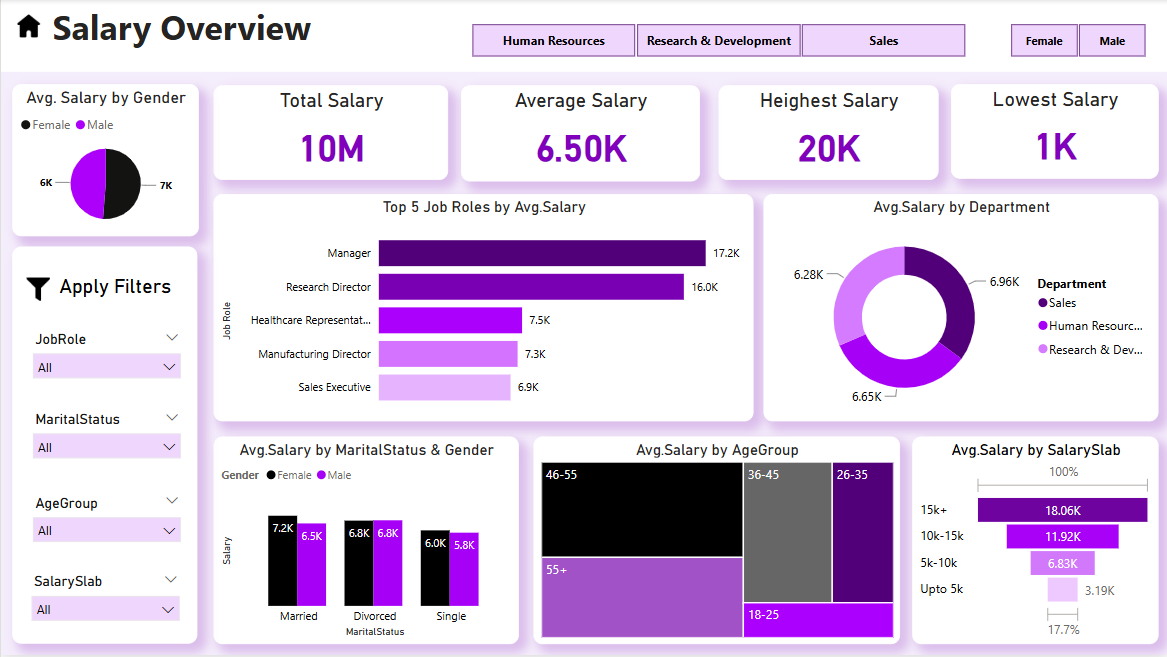

What the dashboard file says about the page in this screenshot:
{"tool":"powerbi","page":{"name":"Salary Overview","canvas":[1280,720],"ordinal":3},"visuals":[{"type":"card","title":"Total Salary","fields":{"Values":["HR_Analytics$.Total_Salary"]},"box":[233.3,94.7,258,104.3],"z":0},{"type":"card","title":"Heighest Salary","fields":{"Values":["Max(HR_Analytics$.MonthlyIncome)"]},"box":[787.7,94.7,241.5,104.3],"z":1000},{"type":"card","title":"Lowest Salary","fields":{"Values":["Min(HR_Analytics$.MonthlyIncome)"]},"box":[1042.9,93.3,227.8,104.3],"z":2000},{"type":"card","title":"Average Salary","fields":{"Values":["HR_Analytics$.Average_salary"]},"box":[505,94.7,262.1,105.7],"z":3000},{"type":"pieChart","title":"Avg. Salary by Gender","fields":{"Category":["HR_Analytics$.Gender"],"Y":["HR_Analytics$.Average_salary"]},"box":[12.3,93.3,204.5,167.4],"z":4000},{"type":"textbox","box":[0,0,1280,80],"z":5000},{"type":"slicer","fields":{"Values":["HR_Analytics$.Gender"]},"box":[1082.7,20.6,197.6,49.4],"z":6000},{"type":"slicer","fields":{"Values":["HR_Analytics$.Department"]},"box":[491.3,20.6,591.4,49.4],"z":7000},{"type":"barChart","title":"Top 5 Job Roles by Avg.Salary","fields":{"Category":["HR_Analytics$.JobRole"],"Y":["HR_Analytics$.Average_salary"]},"box":[233.3,214.1,592.8,249.7],"z":8000},{"type":"donutChart","title":"Avg.Salary by Department","fields":{"Y":["HR_Analytics$.Average_salary"],"Category":["HR_Analytics$.Department"]},"box":[837.1,214.1,433.6,249.7],"z":9000},{"type":"clusteredColumnChart","title":"Avg.Salary by MaritalStatus & Gender","fields":{"Category":["HR_Analytics$.MaritalStatus"],"Y":["HR_Analytics$.Average_salary"],"Series":["HR_Analytics$.Gender"]},"box":[233.3,480.3,334.8,227.8],"z":10000},{"type":"treemap","title":"Avg.Salary by AgeGroup","fields":{"Group":["HR_Analytics$.AgeGroup"],"Values":["HR_Analytics$.Average_salary"]},"box":[584.6,480.3,402.1,227.8],"z":11000},{"type":"funnel","title":"Avg.Salary by SalarySlab","fields":{"Category":["HR_Analytics$.SalarySlab"],"Y":["HR_Analytics$.Average_salary"]},"box":[1000.3,480.3,270.3,227.8],"z":12000},{"type":"textbox","box":[12.3,271.7,203.1,436.4],"z":13000},{"type":"slicer","fields":{"Values":["HR_Analytics$.JobRole"]},"box":[24.7,359.5,182.5,65.9],"z":14000},{"type":"slicer","fields":{"Values":["HR_Analytics$.MaritalStatus"]},"box":[24.7,447.3,182.5,65.9],"z":15000},{"type":"slicer","fields":{"Values":["HR_Analytics$.AgeGroup"]},"box":[24.7,539.3,182.5,65.9],"z":16000},{"type":"slicer","fields":{"Values":["HR_Analytics$.SalarySlab"]},"box":[23.3,625.7,182.5,65.9],"z":17000},{"type":"image","box":[23.3,297.8,35.7,41.2],"z":18000},{"type":"textbox","box":[59,297.8,146.8,48],"z":19000},{"type":"image","box":[0,0,60.4,59],"z":20000}]}

Visuals, with their boxes in screenshot pixels (x1, y1, x2, y2), scaled from the page's 1280x720 canvas onto the 1167x657 screenshot:
"Total Salary" card: BBox(213, 86, 448, 182)
"Heighest Salary" card: BBox(718, 86, 938, 182)
"Lowest Salary" card: BBox(951, 85, 1159, 180)
"Average Salary" card: BBox(460, 86, 699, 183)
"Avg. Salary by Gender" pieChart: BBox(11, 85, 198, 238)
textbox: BBox(0, 0, 1166, 73)
slicer - HR_Analytics$.Gender: BBox(987, 19, 1166, 64)
slicer - HR_Analytics$.Department: BBox(448, 19, 987, 64)
"Top 5 Job Roles by Avg.Salary" barChart: BBox(213, 195, 753, 423)
"Avg.Salary by Department" donutChart: BBox(763, 195, 1159, 423)
"Avg.Salary by MaritalStatus & Gender" clusteredColumnChart: BBox(213, 438, 518, 646)
"Avg.Salary by AgeGroup" treemap: BBox(533, 438, 900, 646)
"Avg.Salary by SalarySlab" funnel: BBox(912, 438, 1158, 646)
textbox: BBox(11, 248, 196, 646)
slicer - HR_Analytics$.JobRole: BBox(23, 328, 189, 388)
slicer - HR_Analytics$.MaritalStatus: BBox(23, 408, 189, 468)
slicer - HR_Analytics$.AgeGroup: BBox(23, 492, 189, 552)
slicer - HR_Analytics$.SalarySlab: BBox(21, 571, 188, 631)
image: BBox(21, 272, 54, 309)
textbox: BBox(54, 272, 188, 316)
image: BBox(0, 0, 55, 54)
